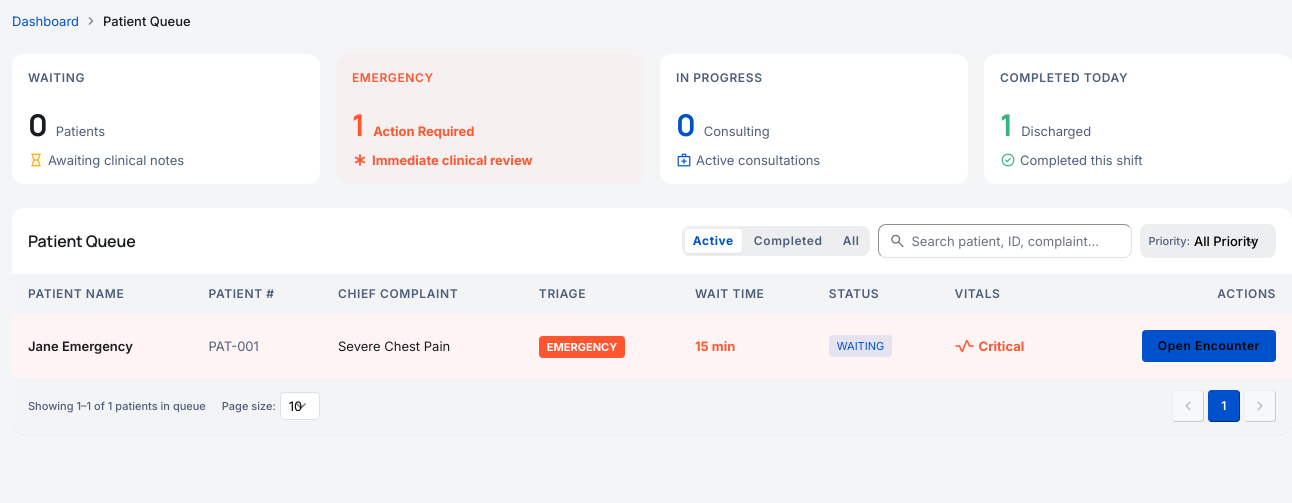
ConsultationQueuePage › filters queue by priority and status tabs
Expected: the text "Jane Emergency" is shown, [12,314,192,378]
Expected: the text "John Routine" is not shown
Switch status filter tab to 'All'
Click the button "All" at coordinates (851, 241), box [835,229,867,253]
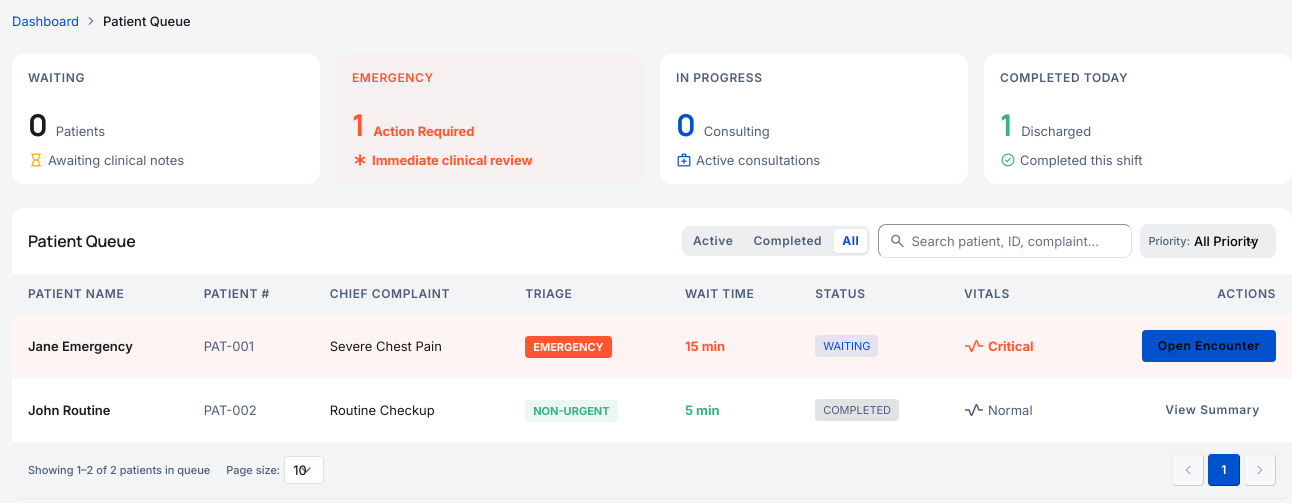
Now the text "John Routine" is shown, box [12,378,188,442]
